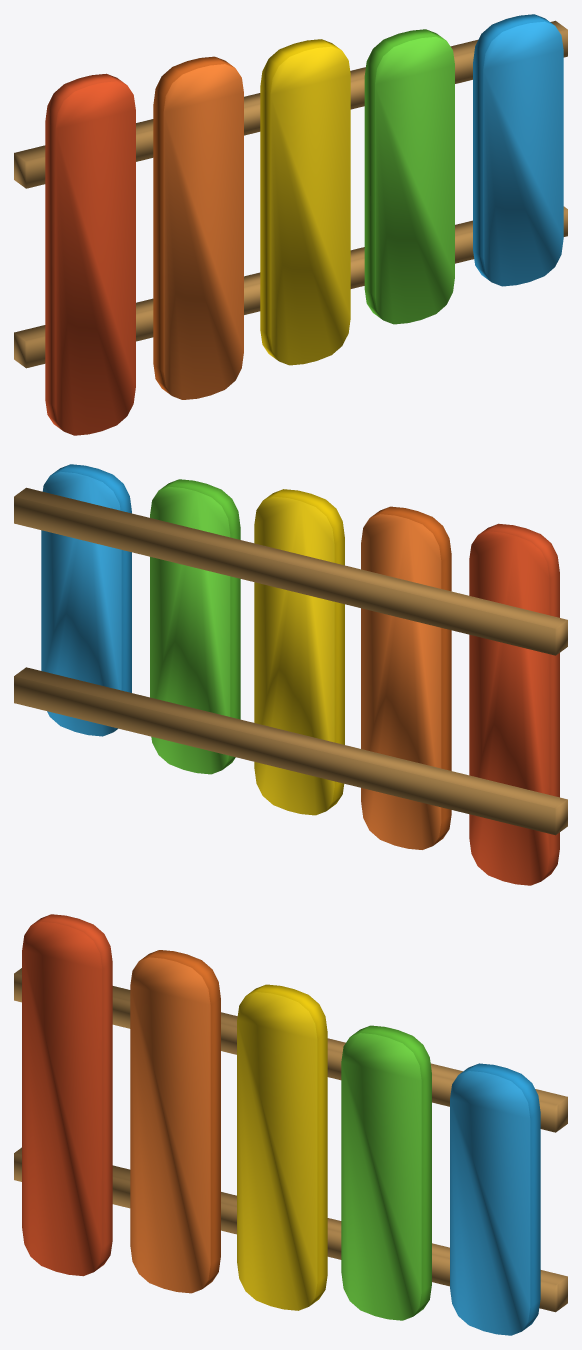
Rendered from xylophone.FBX.
3 renders of one model, top to bottom at view 1: azimuth 30°, elevation 25°; view 2: azimuth 150°, elevation 25°; view 3: azimuth 330°, elevation 25°, orthographic.
Parts seen in each view (by area): view 1: xylophone; view 2: xylophone; view 3: xylophone.
Boxes of the visible parts, box(x1,y1,x2,y2) form: xylophone: box(14, 14, 567, 435); xylophone: box(14, 464, 567, 885); xylophone: box(14, 914, 567, 1335).
Size of the model in its own units: 43.37 by 26.66 by 3.16.
